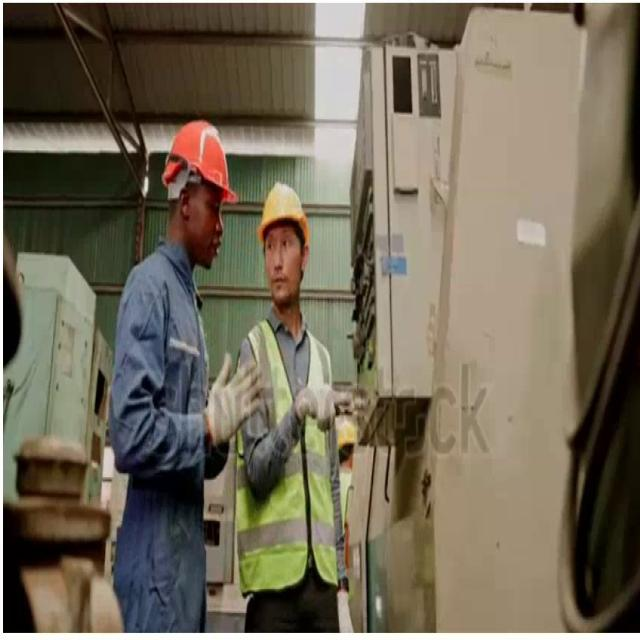gloved: (205, 350, 264, 447), (293, 384, 335, 432), (336, 588, 354, 633)
